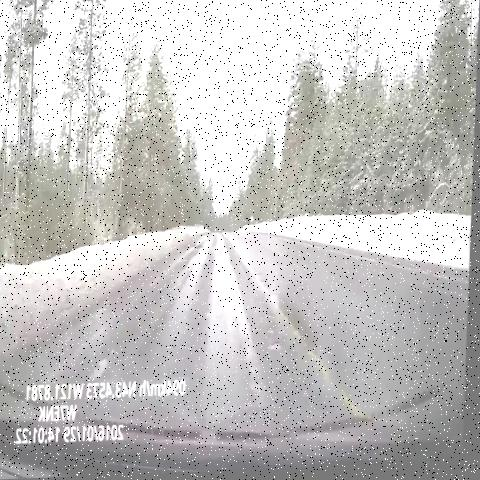pothole: (83, 339, 129, 387), (267, 333, 295, 363), (188, 239, 209, 261)
